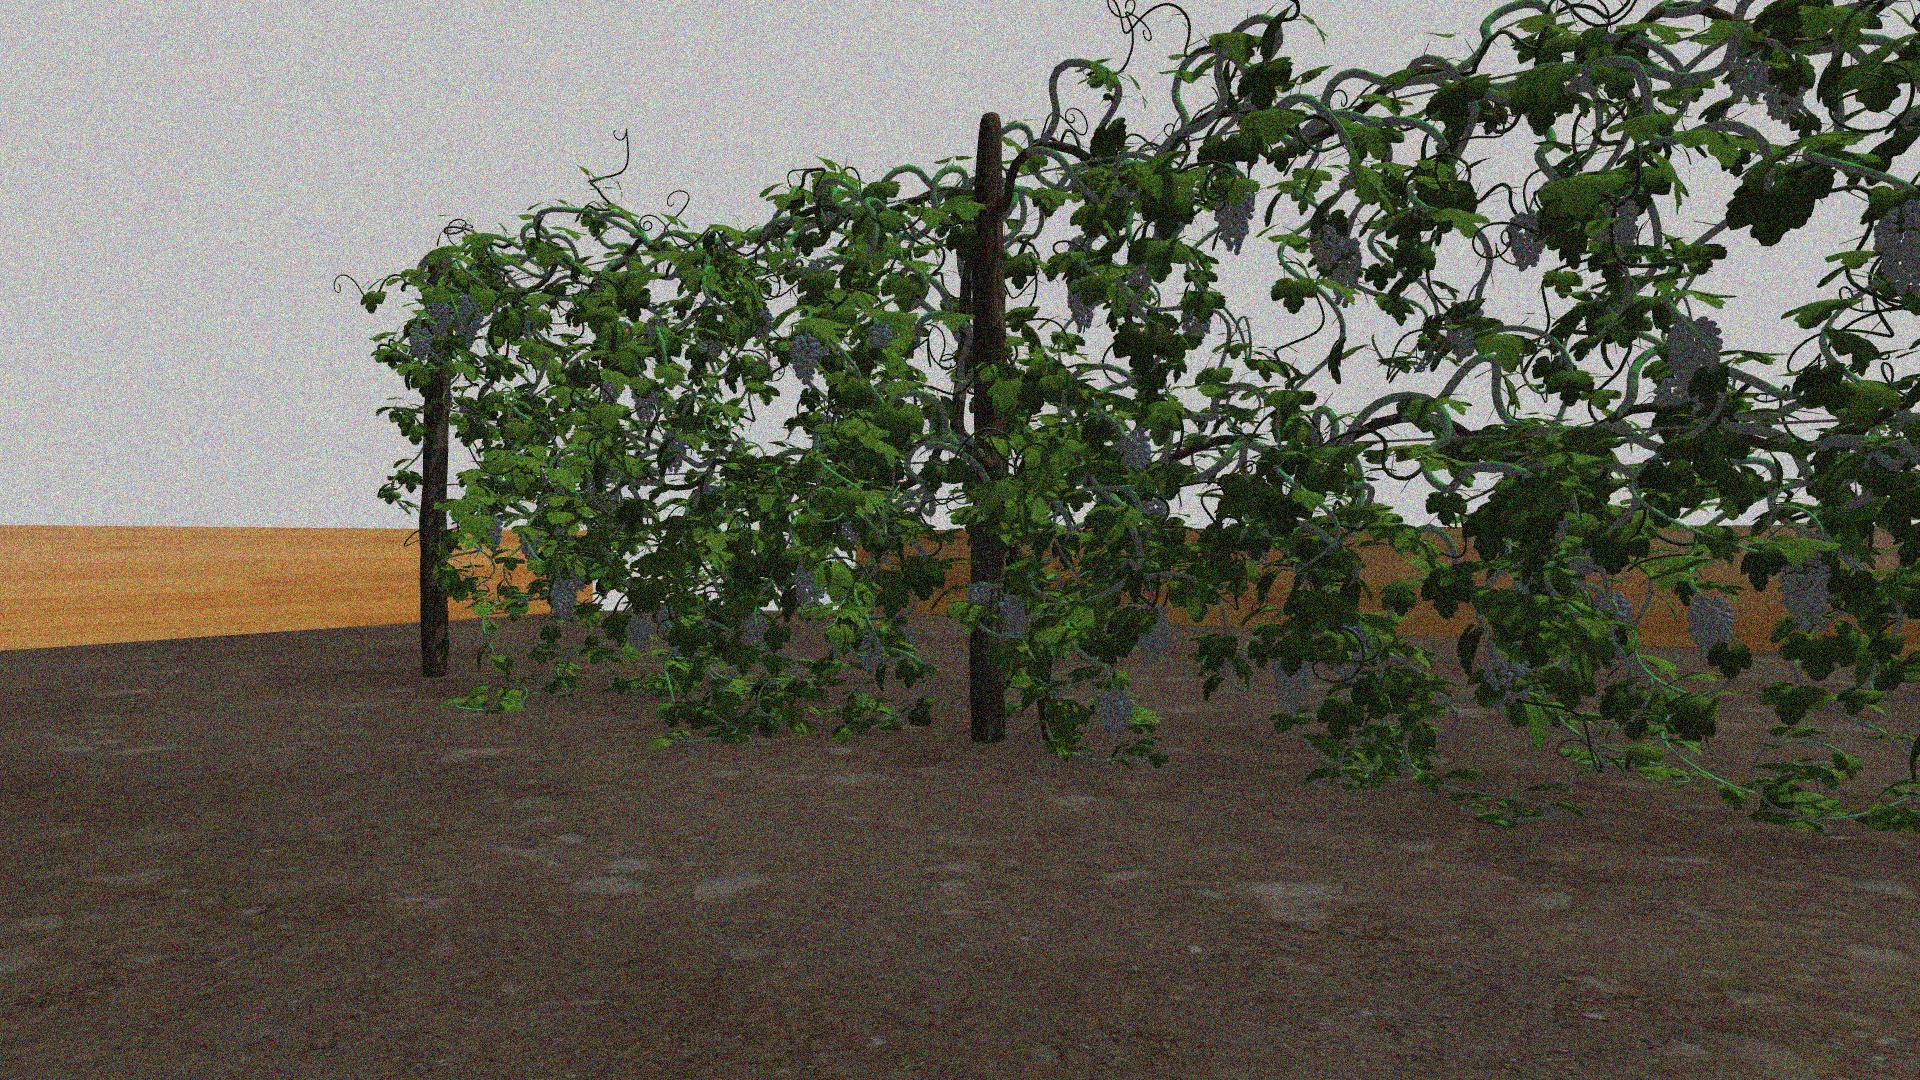grape: (1667, 316, 1724, 397), (1873, 200, 1917, 294), (1778, 555, 1832, 628), (1685, 595, 1734, 661), (1592, 196, 1642, 256), (1506, 208, 1545, 273), (1271, 655, 1311, 719), (1215, 190, 1253, 255), (1327, 240, 1364, 306), (1095, 680, 1131, 744), (1133, 607, 1171, 665), (1727, 55, 1768, 105), (1762, 84, 1807, 125), (789, 331, 822, 384), (1484, 654, 1528, 692), (455, 295, 484, 348), (1065, 280, 1095, 332), (1118, 427, 1151, 472), (549, 578, 579, 622), (1309, 227, 1342, 268), (1000, 593, 1029, 640), (795, 563, 820, 608), (425, 298, 451, 340), (624, 612, 651, 651), (630, 385, 657, 426), (661, 431, 686, 473), (406, 326, 433, 361), (858, 636, 882, 673), (742, 615, 767, 644), (866, 323, 893, 348), (967, 580, 992, 604), (698, 338, 720, 360)
